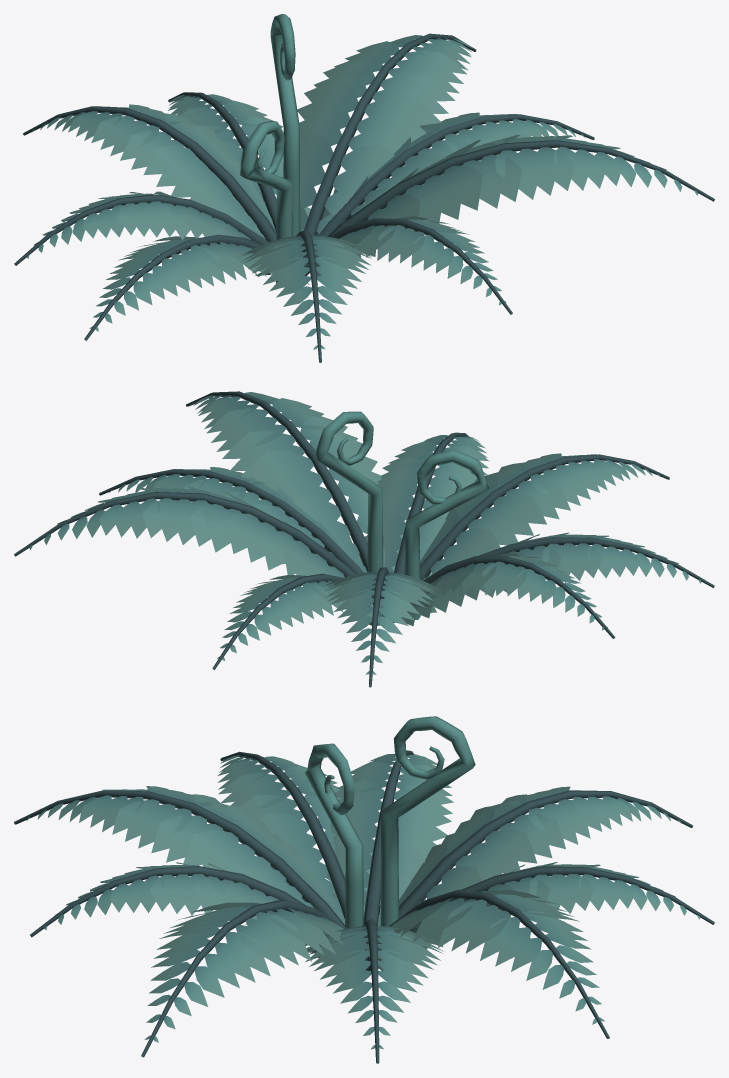
The model's file is fern_b.glb.
3 views of the same model, one above another, from view 1: azimuth 30°, elevation 25°; view 2: azimuth 150°, elevation 25°; view 3: azimuth 270°, elevation 25° (orthographic). The views are drawn at different scales.
Parts seen in each view (by area): view 1: fern_b; view 2: fern_b; view 3: fern_b.
Part boxes in pixels (box(x1,y1,x2,y2)): fern_b: box(14, 14, 714, 362); fern_b: box(14, 391, 714, 687); fern_b: box(14, 716, 714, 1063).
Bounding box in the file's own units: 3.7 × 1.42 × 3.42.
